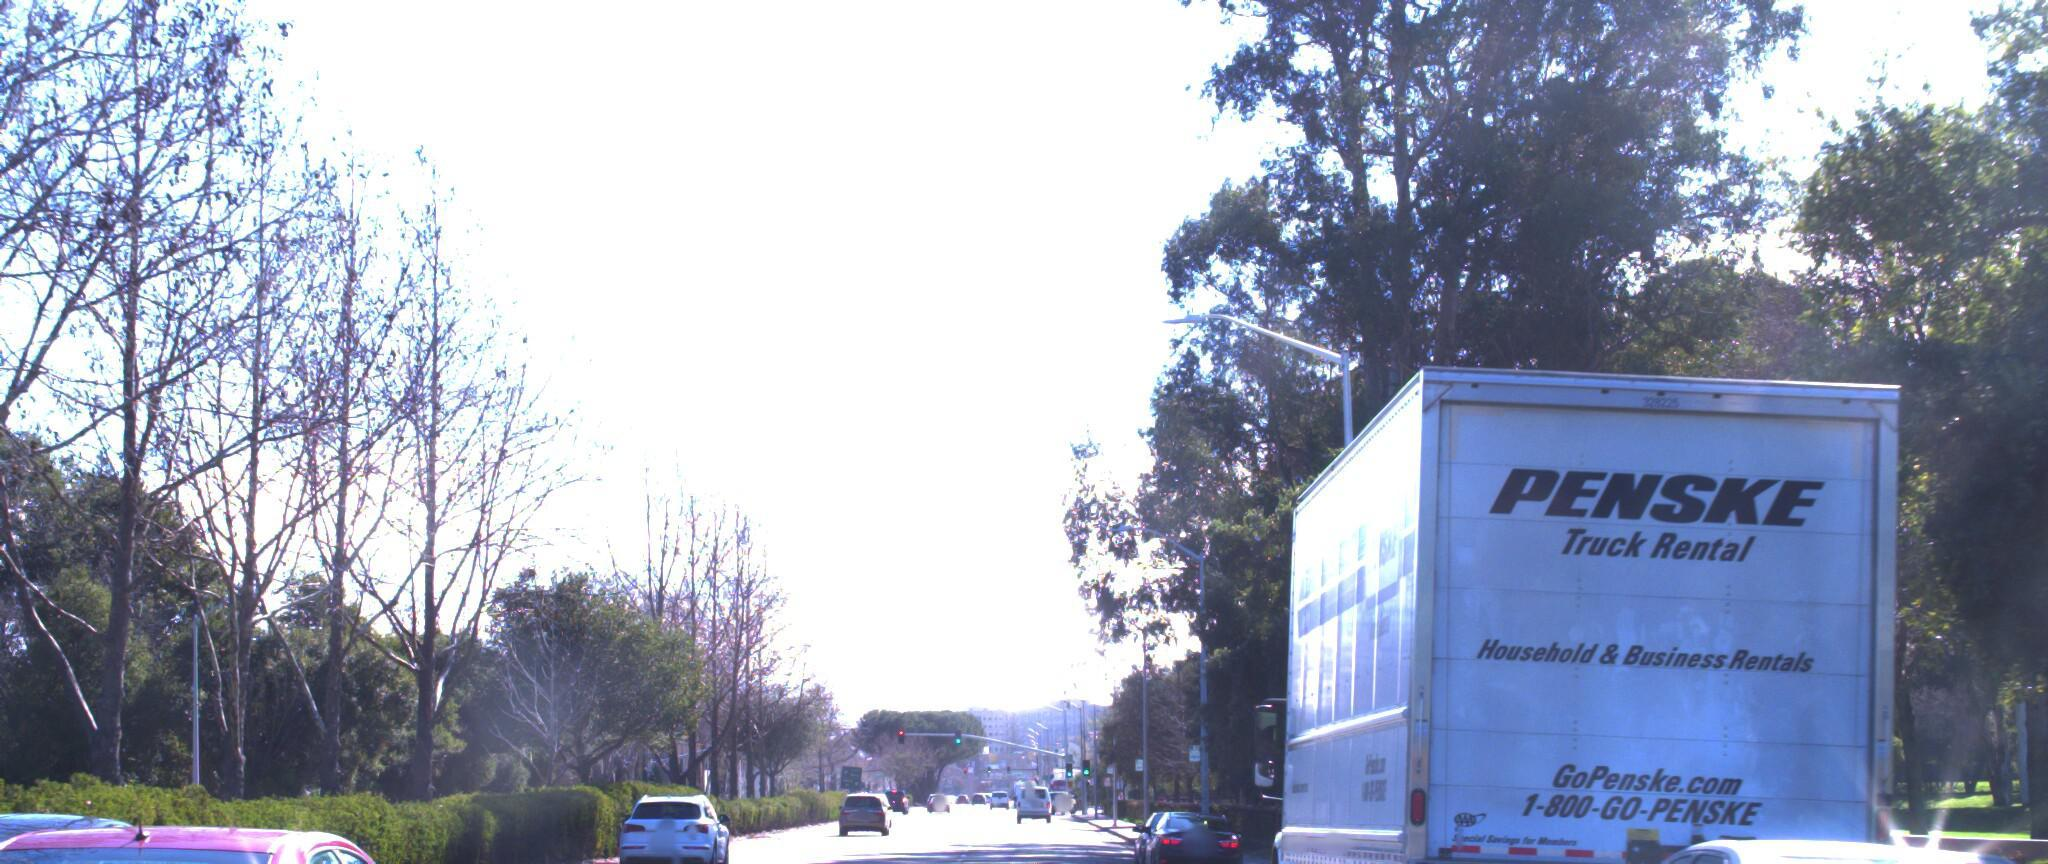car: (0, 787, 504, 864), (1475, 807, 2048, 864), (0, 767, 226, 864), (611, 756, 738, 854), (1135, 782, 1241, 864)
truck: (1223, 335, 1957, 864)
